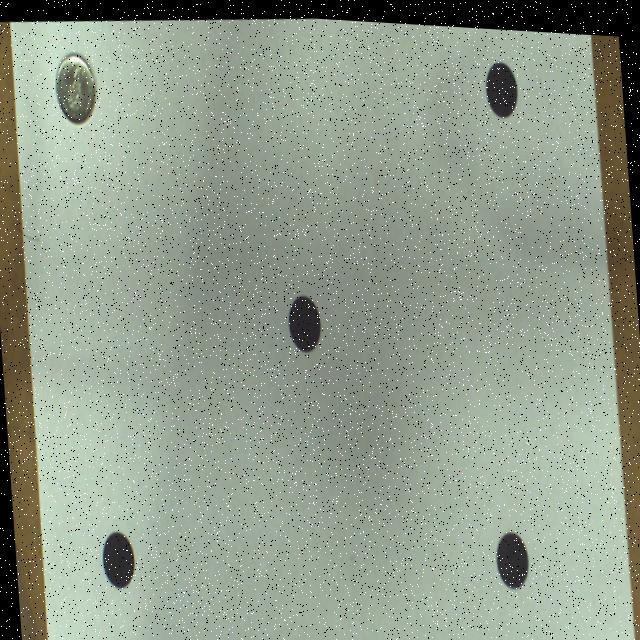space: (288, 291, 321, 348), (102, 530, 135, 586), (496, 526, 528, 582), (485, 56, 516, 110)
tail1bath: (55, 52, 95, 122)
